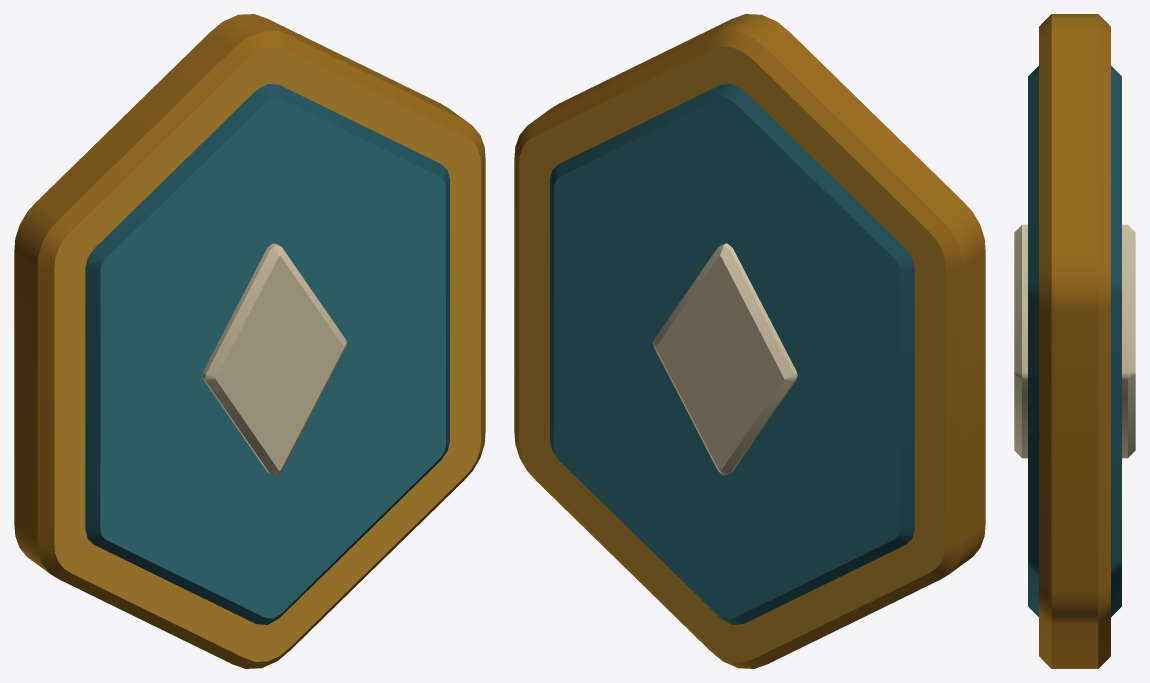
The model's file is Badge_23.glb.
The picture shows the model from 3 angles, left to right: view 1: azimuth 30°, elevation 25°; view 2: azimuth 150°, elevation 25°; view 3: azimuth 270°, elevation 25°; orthographic projection.
Parts seen in each view (by area): view 1: Badge_23; view 2: Badge_23; view 3: Badge_23.
Boxes of the visible parts, left/top/right/bottom form: Badge_23: left=14, top=14, right=485, bottom=668; Badge_23: left=514, top=14, right=985, bottom=668; Badge_23: left=1014, top=14, right=1135, bottom=668.
Size of the model in its own units: 1.9 by 2.58 by 0.44.
